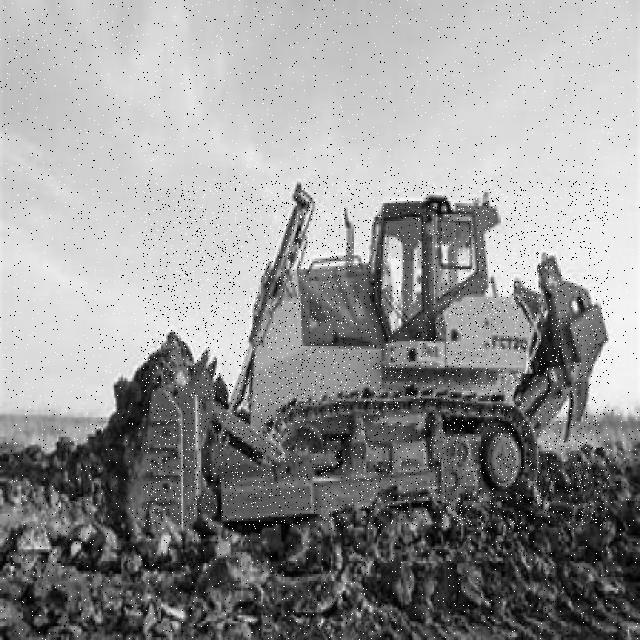Construction Equipment: (143, 181, 609, 529)
